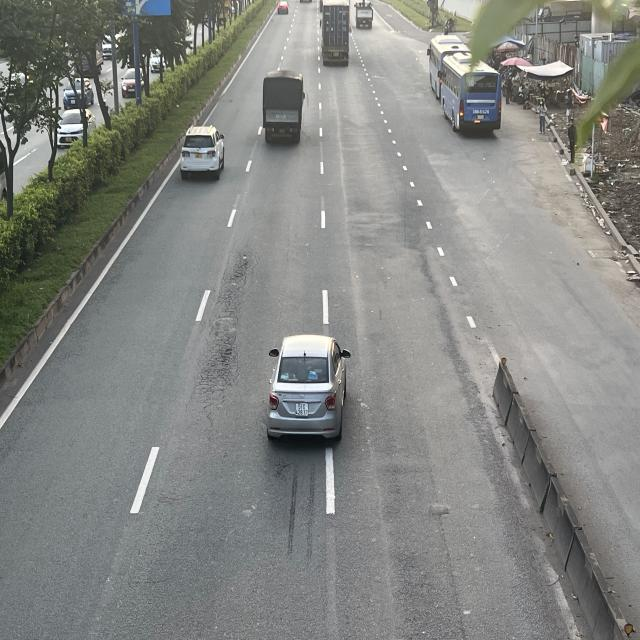car: (266, 334, 351, 441), (180, 125, 227, 180)
coach: (433, 60, 504, 135)
container: (322, 0, 354, 64)
truck: (262, 70, 305, 144)
